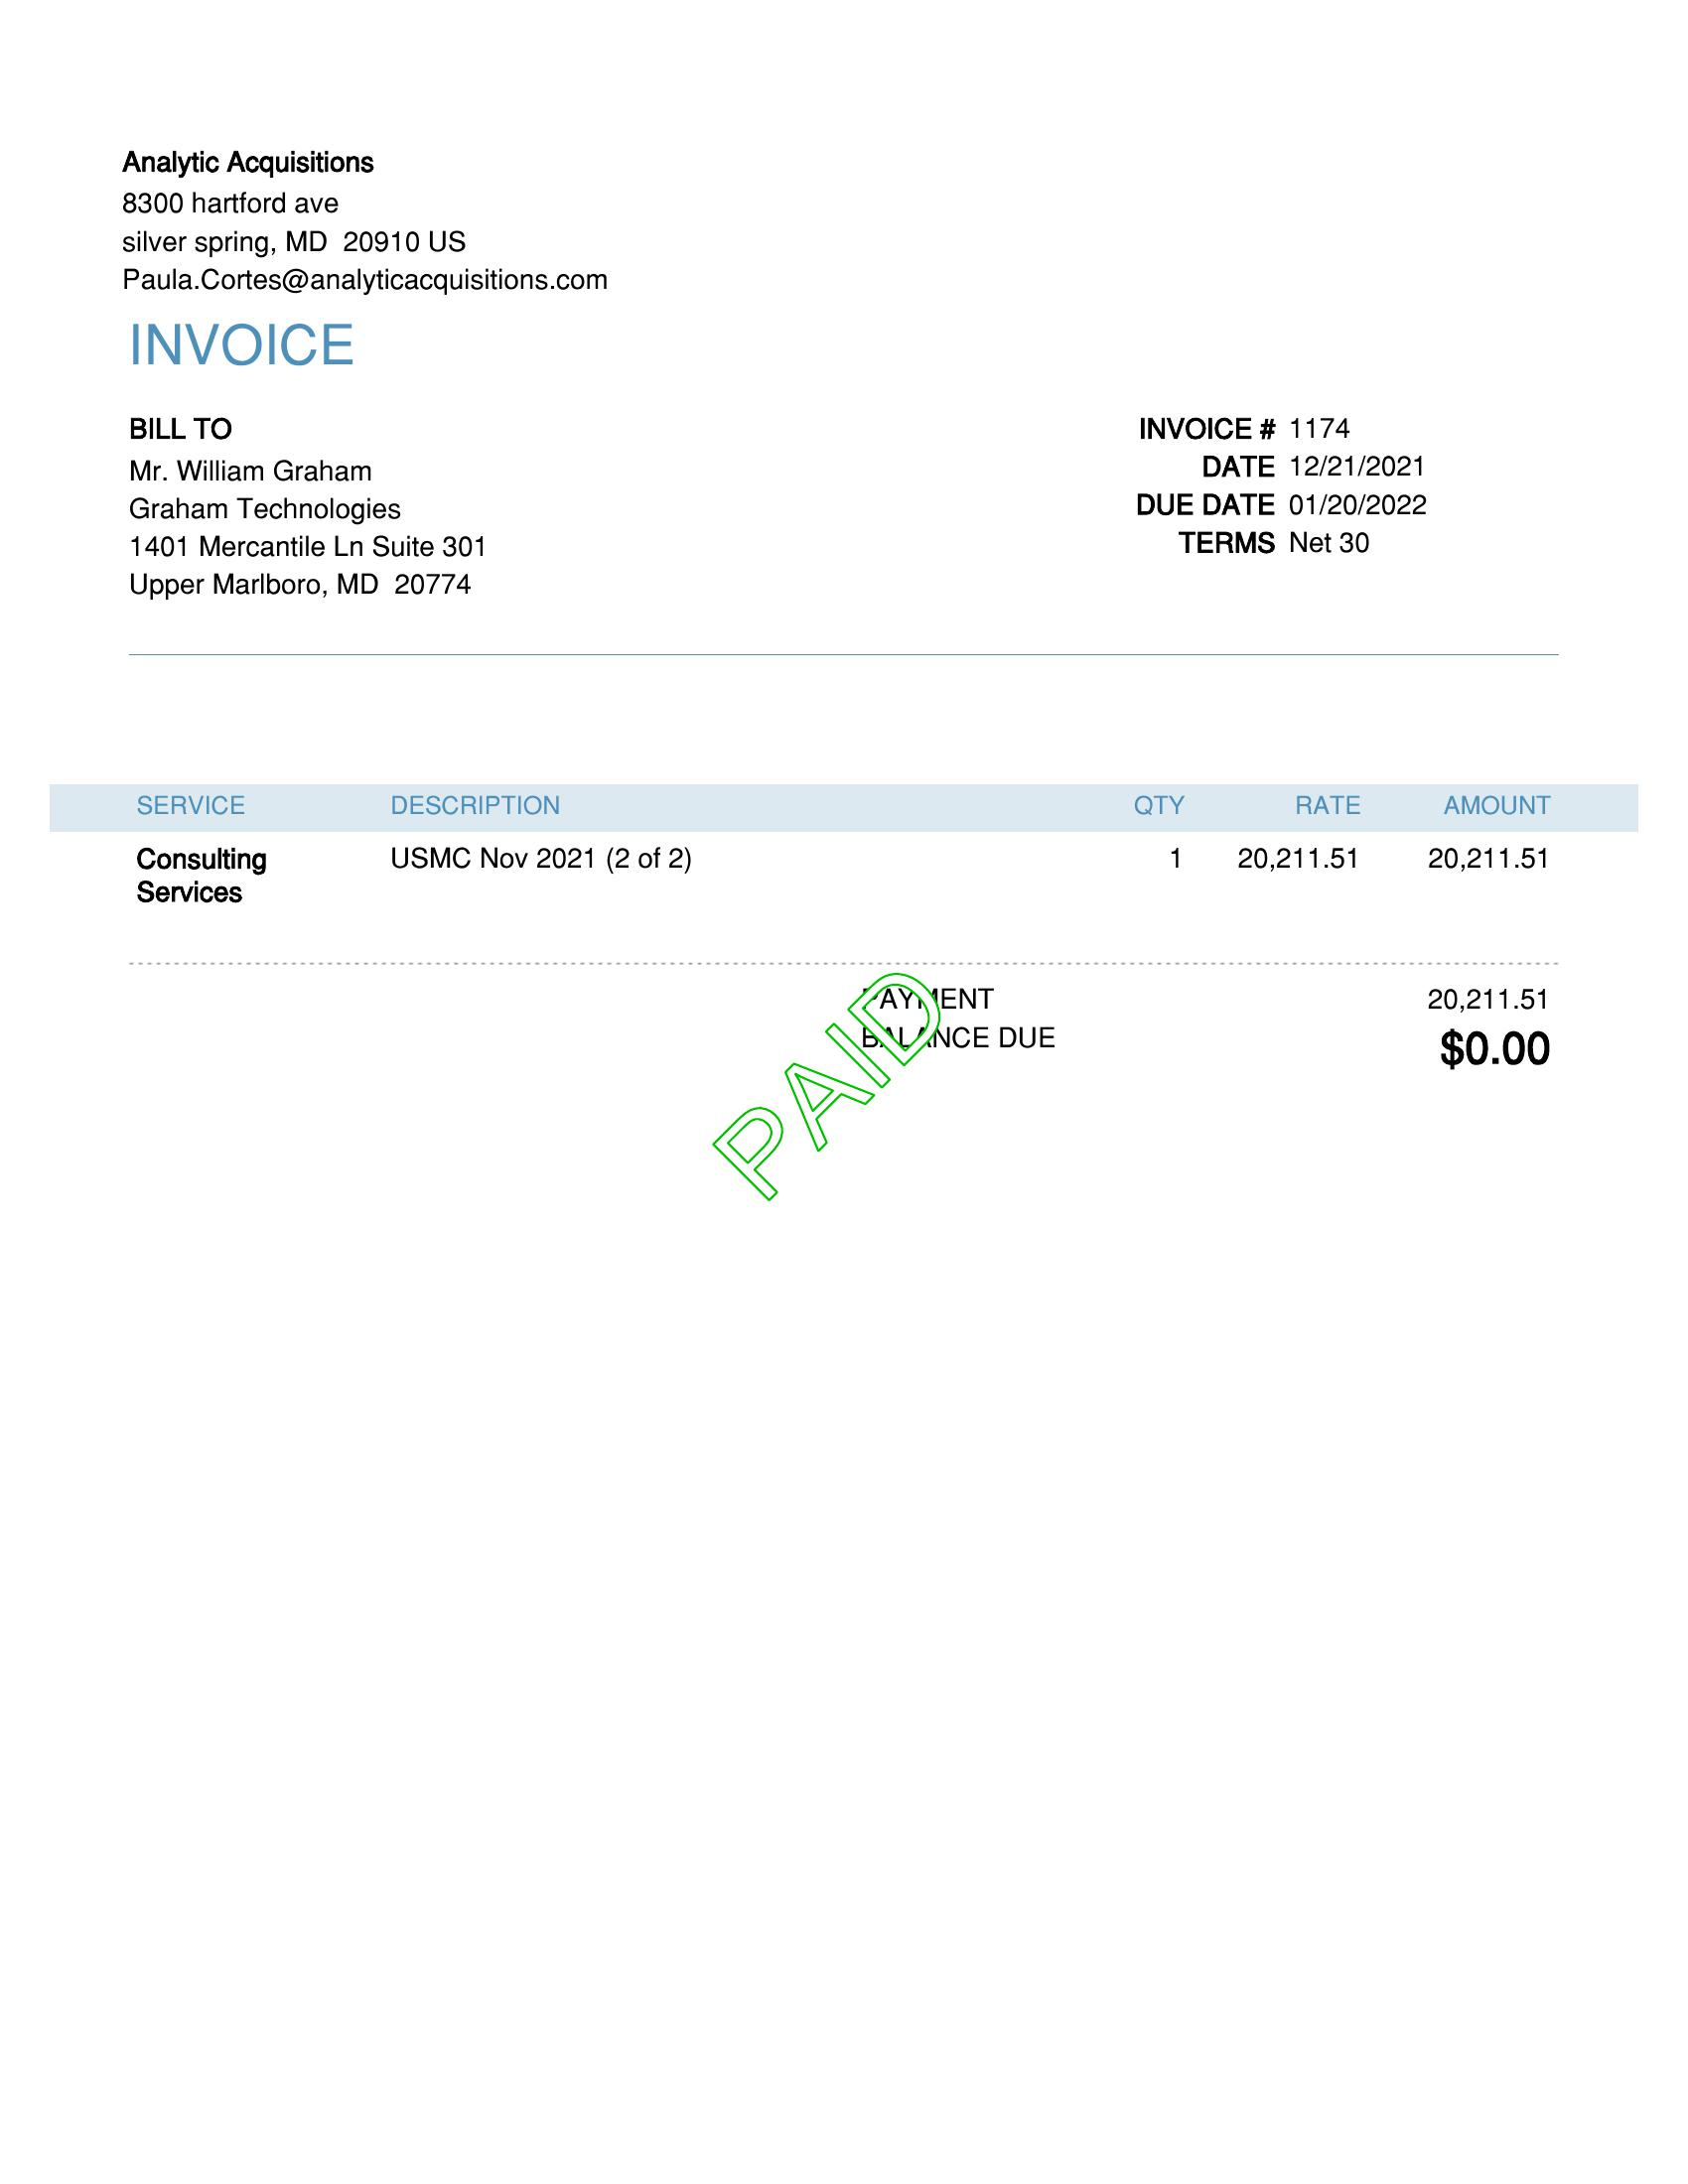table: (37, 768, 1653, 966)
